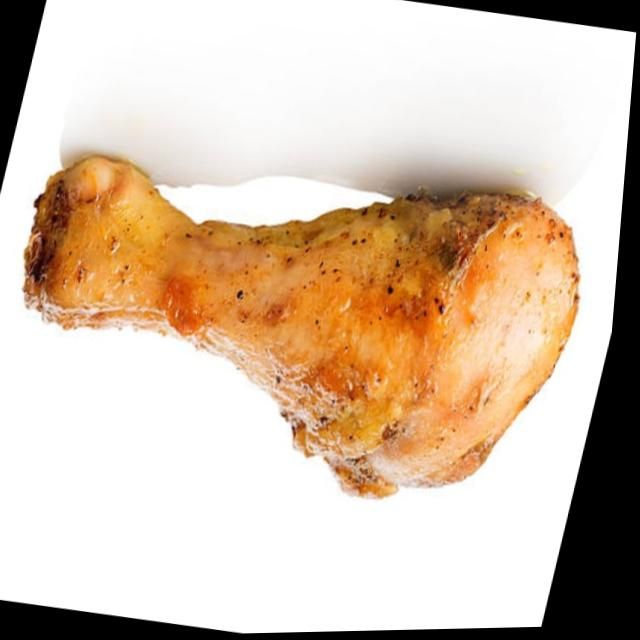CHICKEN FRY: (25, 157, 573, 496)
